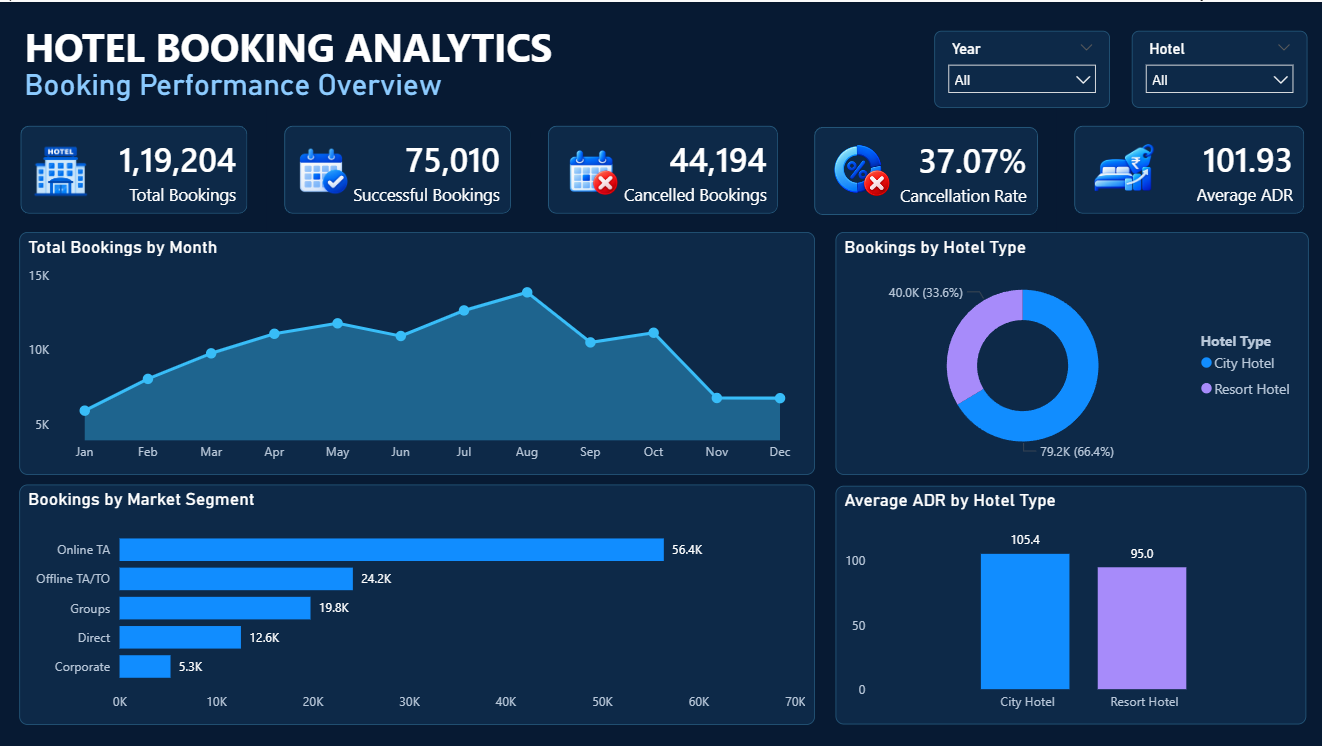

Layout of this report page (visuals, bound fields, positions):
{"tool":"powerbi","page":{"name":"Booking Performance","canvas":[1280,720],"ordinal":0},"visuals":[{"type":"textbox","box":[20.1,13.1,553.3,67],"z":0},{"type":"textbox","box":[20.1,57.8,435.4,53.3],"z":1000},{"type":"slicer","fields":{"Values":["Dim_Calendar.Year"]},"box":[903.4,28,170,74.4],"z":2000},{"type":"slicer","fields":{"Values":["Fact_Bookings.hotel"]},"box":[1094.4,28,170,74.4],"z":3000},{"type":"cardVisual","title":"Total Bookings","fields":{"Data":["Fact_Bookings.Total Bookings"]},"box":[4.8,102.5,253.4,119.4],"z":4000},{"type":"cardVisual","title":"Total Bookings","fields":{"Data":["Fact_Bookings.Successful Bookings"]},"box":[259.1,102.5,253.4,119.4],"z":5000},{"type":"cardVisual","title":"Total Bookings","fields":{"Data":["Fact_Bookings.Cancellation Rate"]},"box":[771.2,103.8,250.9,119.4],"z":6000},{"type":"cardVisual","title":"Total Bookings","fields":{"Data":["Fact_Bookings.Average ADR"]},"box":[1021.9,102.5,257,119.4],"z":7000},{"type":"cardVisual","title":"Total Bookings","fields":{"Data":["Fact_Bookings.Cancelled Booking"]},"box":[513.3,102.5,257,119.4],"z":8000},{"type":"areaChart","fields":{"Category":["Dim_Calendar.Month"],"Y":["Fact_Bookings.Total Bookings"]},"box":[20.1,221.6,767.9,234.5],"z":9000},{"type":"donutChart","title":"Bookings by Hotel Type","fields":{"Category":["Fact_Bookings.hotel"],"Y":["Fact_Bookings.Total Bookings"]},"box":[807.8,221.6,456.5,234.5],"z":10000},{"type":"barChart","title":"Bookings by Market Segment","fields":{"Category":["Fact_Bookings.market_segment"],"Y":["Fact_Bookings.Total Bookings"]},"box":[20.1,465.2,767.9,232],"z":11000},{"type":"clusteredColumnChart","title":"Average ADR by Hotel Type","fields":{"Y":["Fact_Bookings.Average ADR"],"Category":["Fact_Bookings.hotel"]},"box":[807.8,466.4,454,230.7],"z":12000},{"type":"image","box":[20.5,118.2,79.6,89.3],"z":13000},{"type":"image","box":[278.7,130.3,70,63.9],"z":14000},{"type":"image","box":[798.7,131.5,68.8,62.7],"z":15000},{"type":"image","box":[546.5,132.7,54.3,63.9],"z":16000},{"type":"image","box":[1048.4,127.9,73.6,66.4],"z":17000}]}

Visuals, with their boxes in screenshot pixels (x1, y1, x2, y2), scaled from the page's 1280x720 canvas onto the 1322x746 screenshot:
textbox: 21, 14, 592, 83
textbox: 21, 60, 470, 115
slicer - Dim_Calendar.Year: 933, 29, 1109, 106
slicer - Fact_Bookings.hotel: 1130, 29, 1306, 106
"Total Bookings" cardVisual: 5, 106, 267, 230
"Total Bookings" cardVisual: 268, 106, 529, 230
"Total Bookings" cardVisual: 797, 108, 1056, 231
"Total Bookings" cardVisual: 1055, 106, 1321, 230
"Total Bookings" cardVisual: 530, 106, 796, 230
areaChart - Dim_Calendar.Month x Fact_Bookings.Total Bookings: 21, 230, 814, 473
"Bookings by Hotel Type" donutChart: 834, 230, 1306, 473
"Bookings by Market Segment" barChart: 21, 482, 814, 722
"Average ADR by Hotel Type" clusteredColumnChart: 834, 483, 1303, 722
image: 21, 122, 103, 215
image: 288, 135, 360, 201
image: 825, 136, 896, 201
image: 564, 137, 621, 204
image: 1083, 133, 1159, 201
